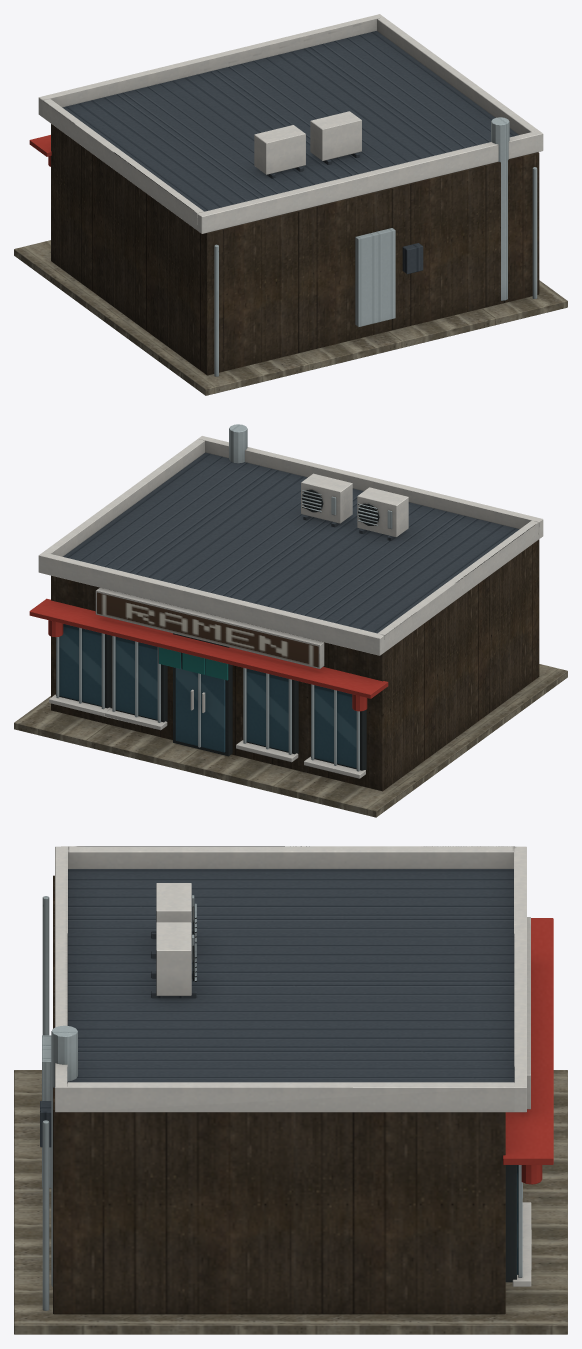
The model's file is shop_004.obj.
The picture shows the model from 3 angles, top to bottom: view 1: azimuth 30°, elevation 25°; view 2: azimuth 150°, elevation 25°; view 3: azimuth 270°, elevation 25°; orthographic projection. The views are drawn at different scales.
Parts seen in each view (by area): view 1: shop_004; view 2: shop_004; view 3: shop_004.
Boxes of the visible parts, box(x1,y1,x2,y2) form: shop_004: box(14, 14, 567, 395); shop_004: box(14, 424, 567, 817); shop_004: box(14, 846, 567, 1334).
Bounding box in the file's own units: 7.75 × 3.88 × 7.1.
1 material, 1 textured.
